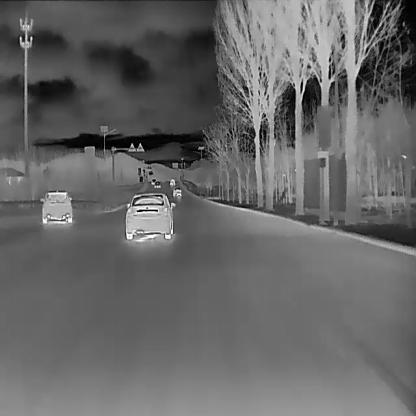car: (124, 190, 177, 238), (40, 188, 72, 222), (172, 186, 180, 196), (152, 180, 160, 188), (169, 178, 175, 185), (151, 178, 156, 184)
